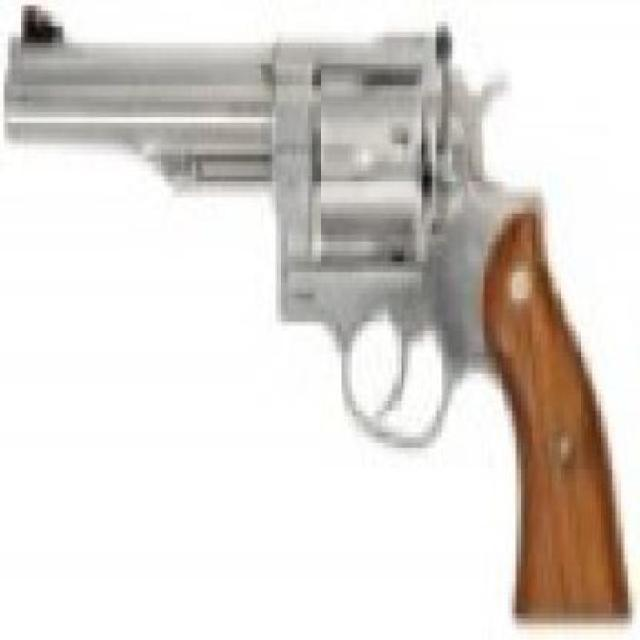gun: (12, 16, 632, 630)
